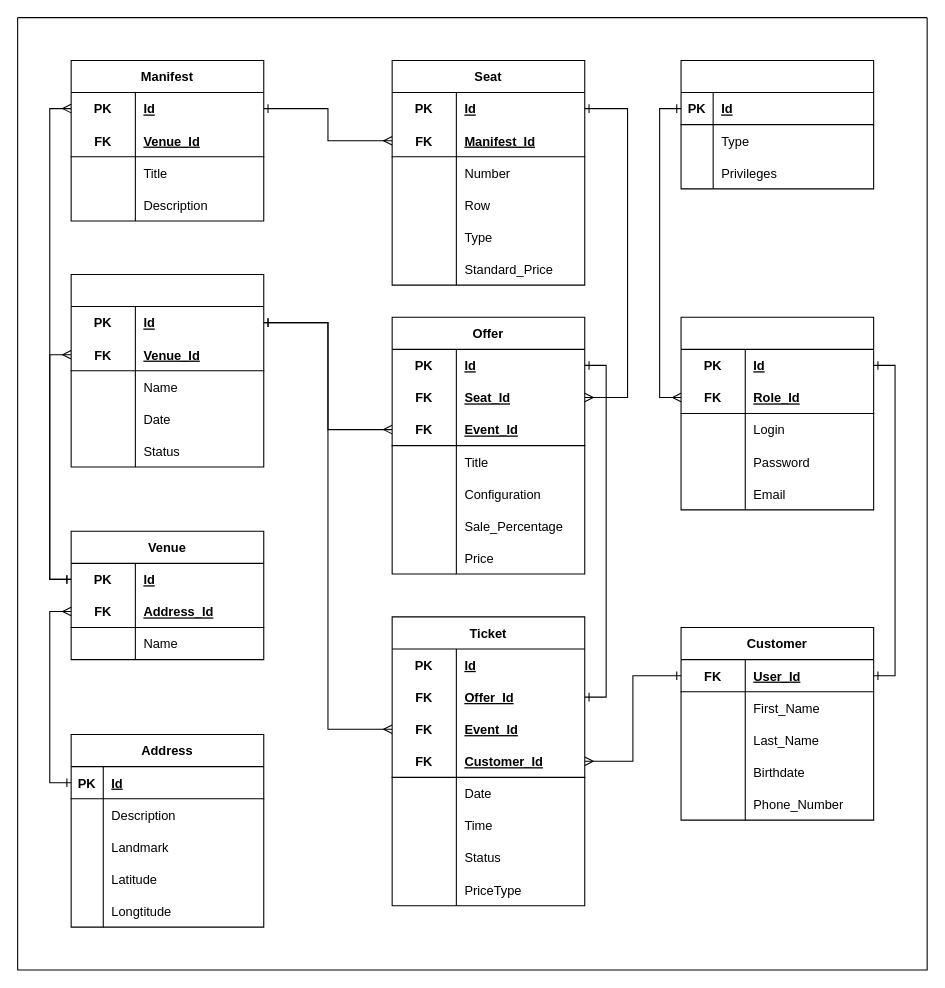
The diagram is 945 pixels wide and 988 high, and some of its shapes have lost their labels. The box of each missing label's shape, as (x1, y1, x2, y2) in pixels:
Event: (70, 273, 264, 467)
Role: (680, 59, 874, 189)
User: (680, 316, 874, 510)
